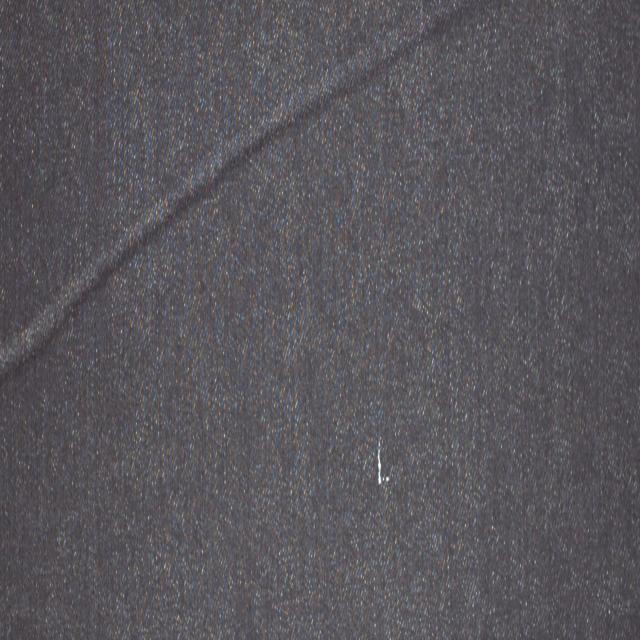Knot: (377, 438, 391, 486)
